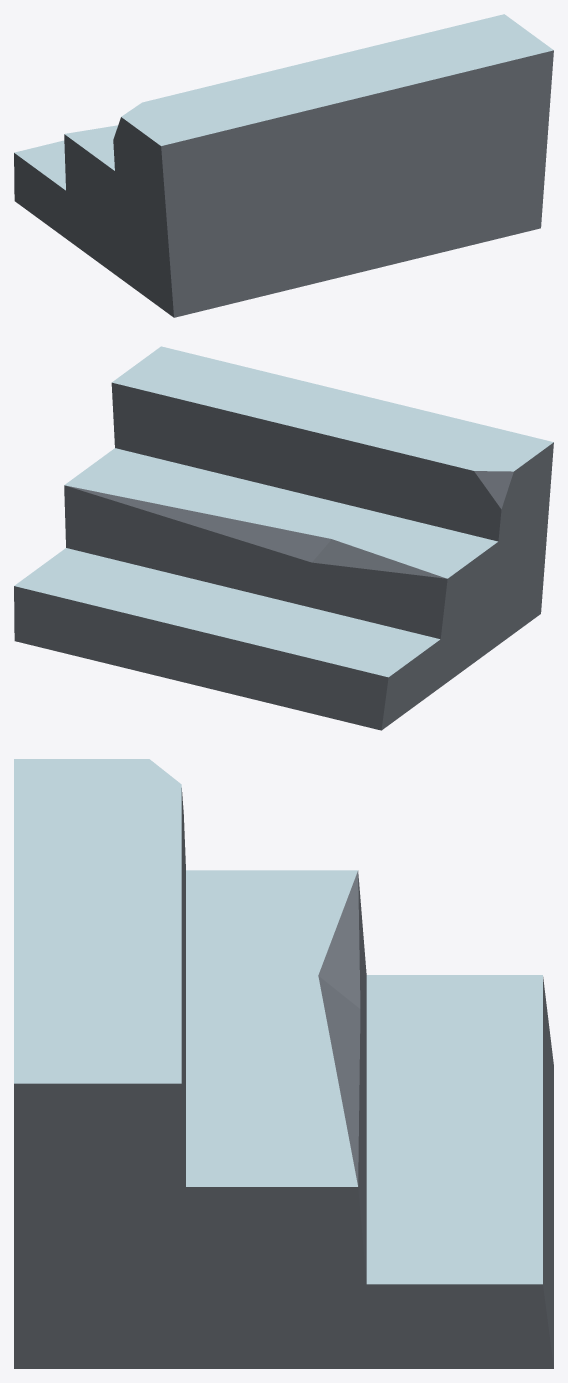
File: SM_Prop_Stairs_Stone_01_Snow.glb
3 views of the same model, one above another, from view 1: azimuth 30°, elevation 25°; view 2: azimuth 150°, elevation 25°; view 3: azimuth 270°, elevation 25° (orthographic). The views are drawn at different scales.
Visible parts, largest first — view 1: SM_Prop_Stairs_Stone_01_Snow; view 2: SM_Prop_Stairs_Stone_01_Snow; view 3: SM_Prop_Stairs_Stone_01_Snow.
Boxes of the visible parts, left/top/right/bottom form: SM_Prop_Stairs_Stone_01_Snow: left=14, top=14, right=553, bottom=317; SM_Prop_Stairs_Stone_01_Snow: left=14, top=346, right=553, bottom=730; SM_Prop_Stairs_Stone_01_Snow: left=14, top=759, right=553, bottom=1368.
Bounding box in the file's own units: 0.5242 × 0.2229 × 0.3687.
Materials: 1 (1 with a texture image).
